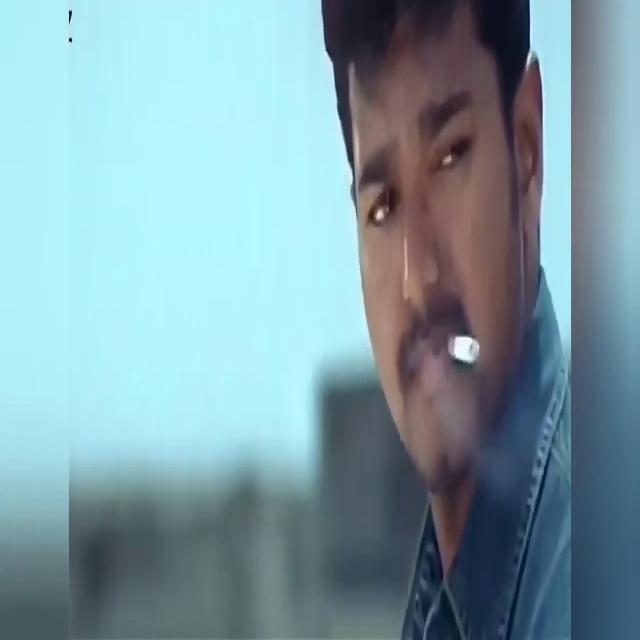smoking: (439, 352, 489, 354)
